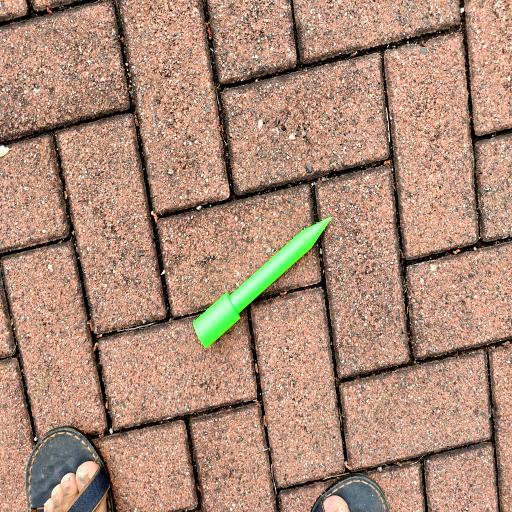Probe-Detection: (194, 217, 332, 347)
